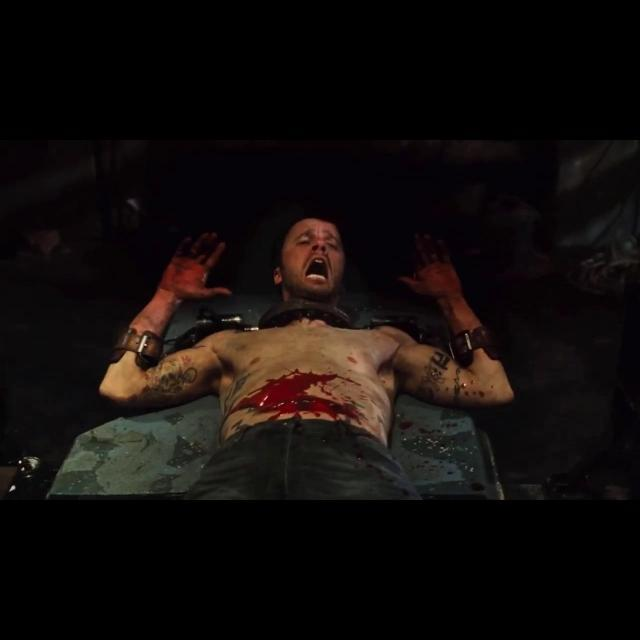blood: (220, 354, 392, 441), (436, 360, 514, 407)
